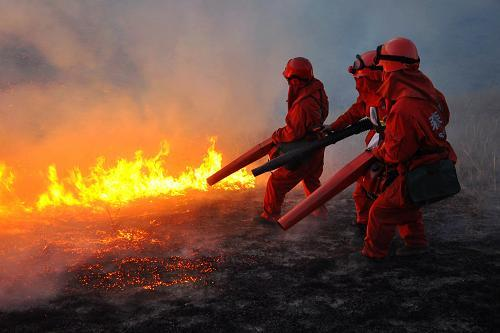fire: (7, 5, 278, 130), (12, 146, 254, 204)
smoke: (2, 210, 62, 306)
